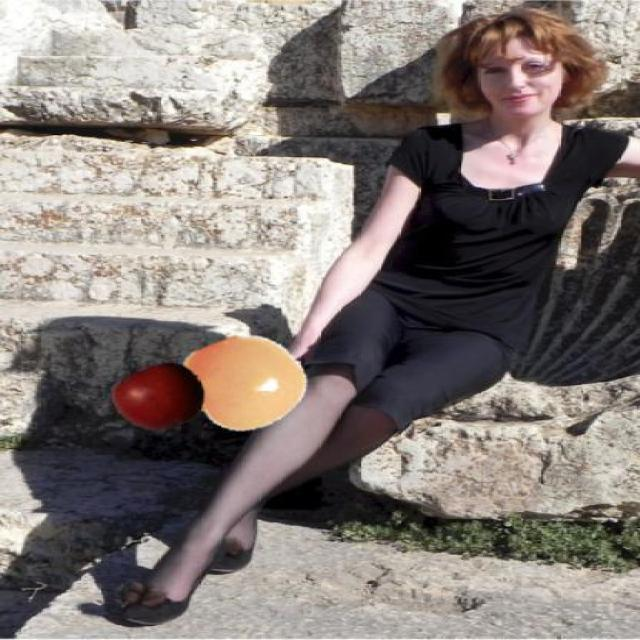Apple: (114, 362, 208, 433)
